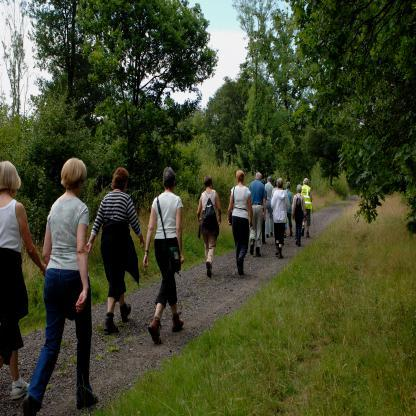person: (26, 156, 92, 415), (94, 166, 144, 336), (143, 164, 185, 346), (0, 159, 31, 403), (196, 174, 226, 278), (226, 168, 250, 278), (246, 168, 268, 262), (270, 176, 291, 260), (290, 181, 306, 250), (302, 174, 314, 242)
